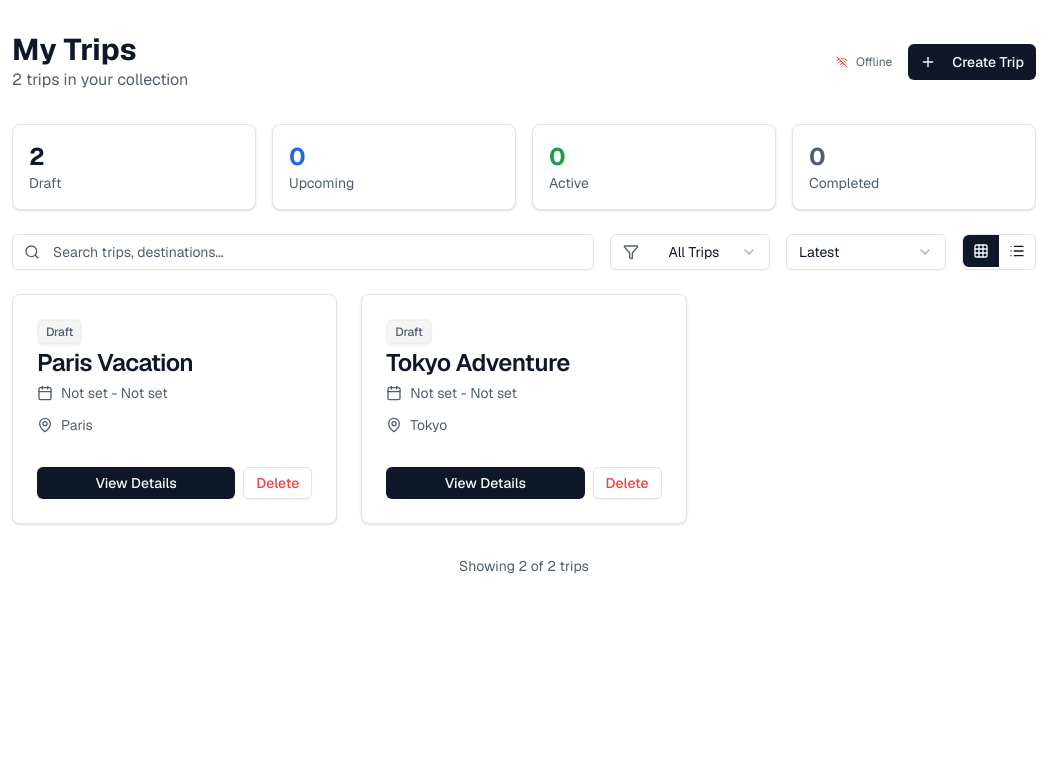
Test case: TripsPage › Search functionality › shows no results message when search finds nothing
Type "nonexistent" into the search field with placeholder "Search trips, destinations…". click: [303, 252]
box: [12,234,594,270]
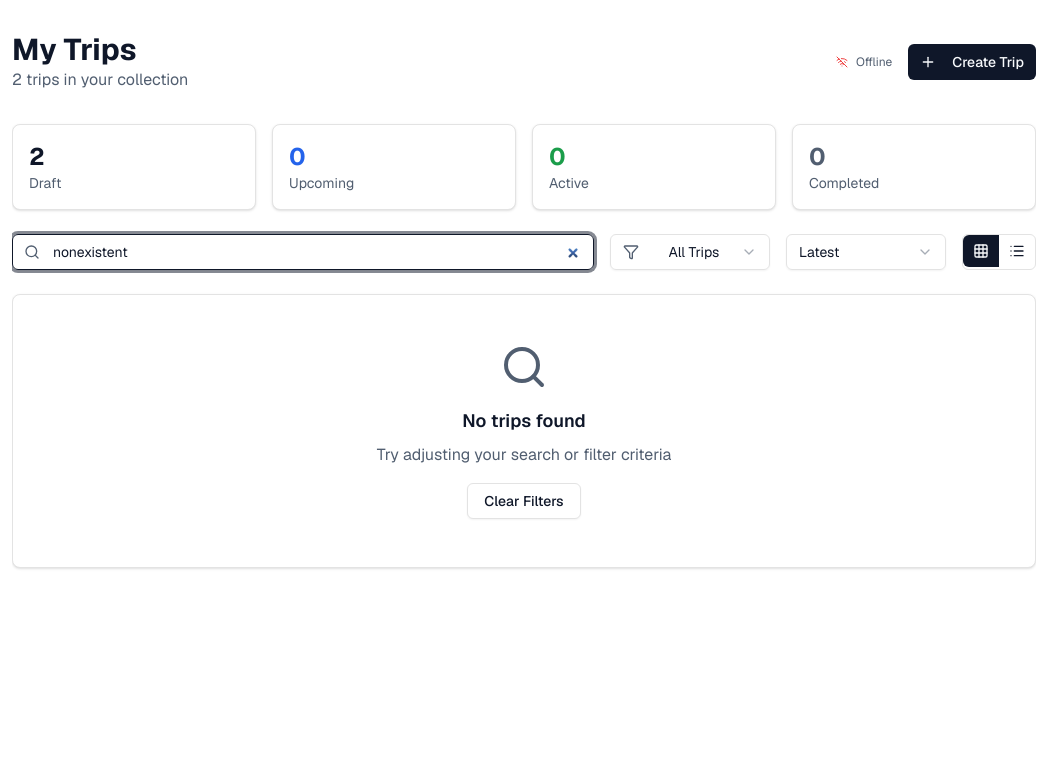
Expected: the heading "No trips found" is shown, [462,409,586,432]
Expected: the text "Try adjusting your search or filter criteria" is shown, [377,444,671,465]
